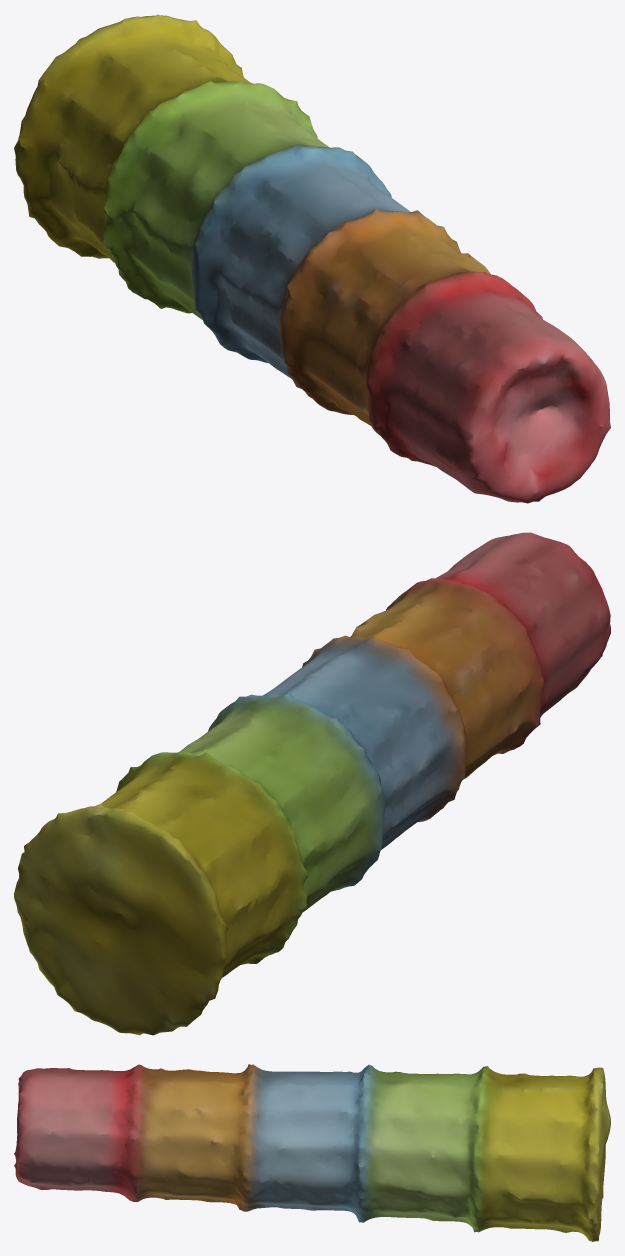
File: stucking_cups.glb
3 views of the same model, one above another, from view 1: azimuth 30°, elevation 25°; view 2: azimuth 150°, elevation 25°; view 3: azimuth 270°, elevation 25° (orthographic). The views are drawn at different scales.
Size of the model in its own units: 0.2941 by 0.2939 by 0.9982.
